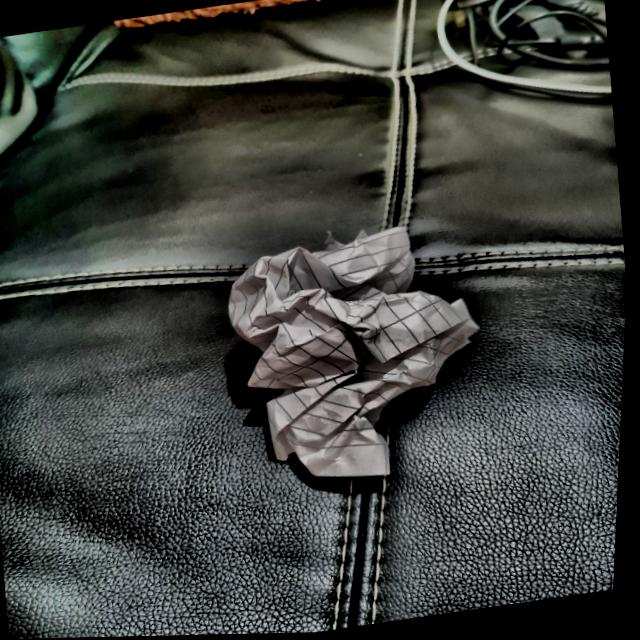Paper: (214, 219, 501, 493)
